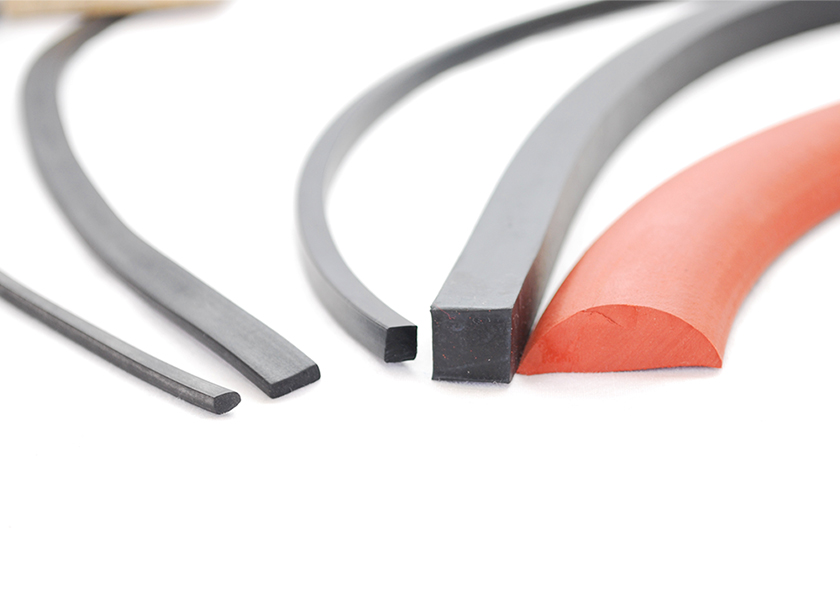Nonrec_Tangler: (10, 8, 804, 420)
